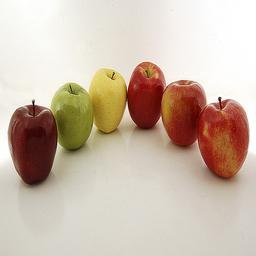apple: (194, 95, 249, 179), (6, 101, 57, 186), (159, 79, 207, 147), (51, 81, 94, 151), (126, 61, 166, 129), (89, 69, 128, 132)
